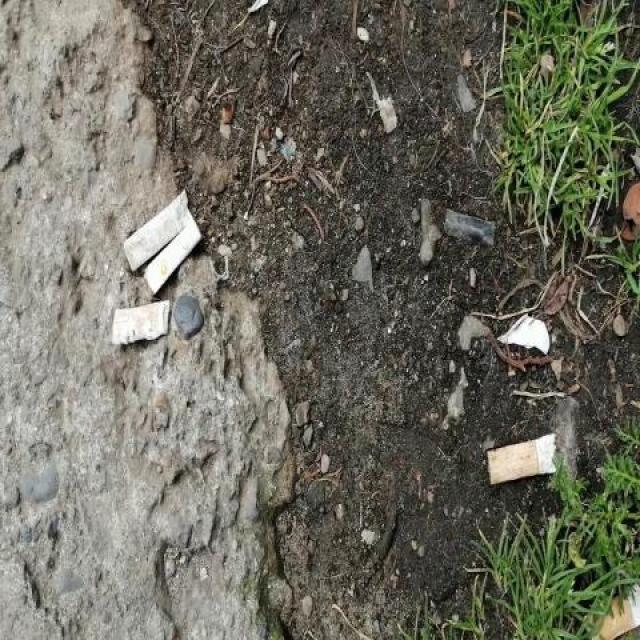non-organic waste: (120, 186, 191, 275), (140, 214, 204, 294), (483, 425, 558, 491), (106, 294, 174, 349)
